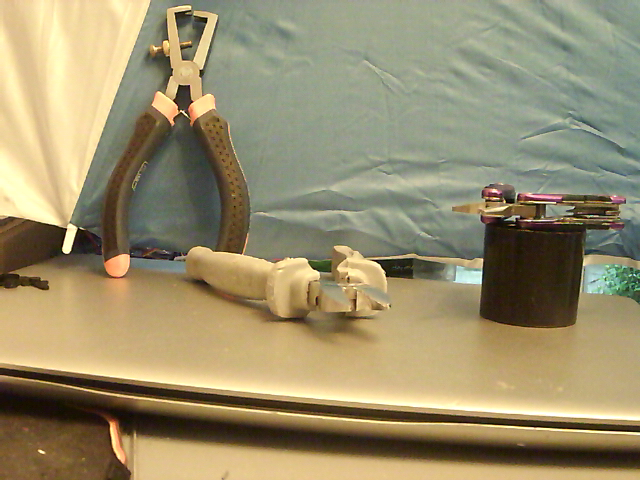pliers: (182, 245, 395, 324), (443, 181, 629, 231)
